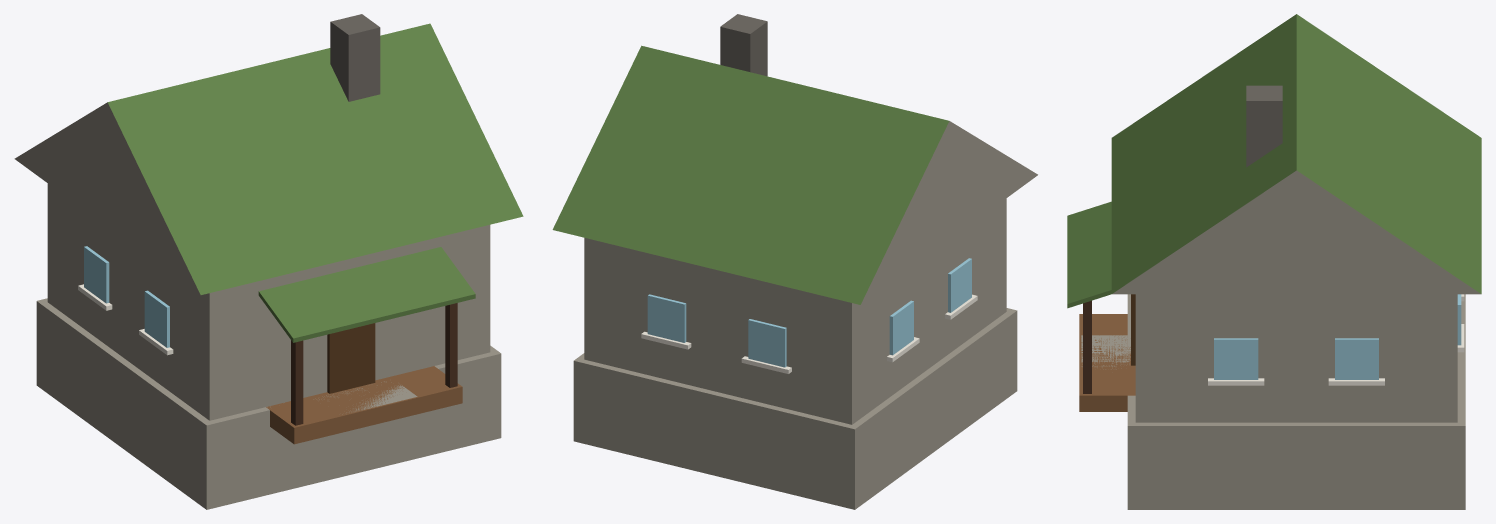
File: house_c.glb
3 renders of one model, left to right at view 1: azimuth 30°, elevation 25°; view 2: azimuth 150°, elevation 25°; view 3: azimuth 270°, elevation 25°, orthographic. The views are drawn at different scales.
Parts seen in each view (by area): view 1: house_c-col; view 2: house_c-col; view 3: house_c-col.
Boxes of the visible parts, box(x1,y1,x2,y2) form: house_c-col: box(14, 14, 523, 509); house_c-col: box(552, 14, 1037, 509); house_c-col: box(1067, 14, 1481, 509).
Bounding box in the file's own units: 9.2 × 10.4 × 10.3.
